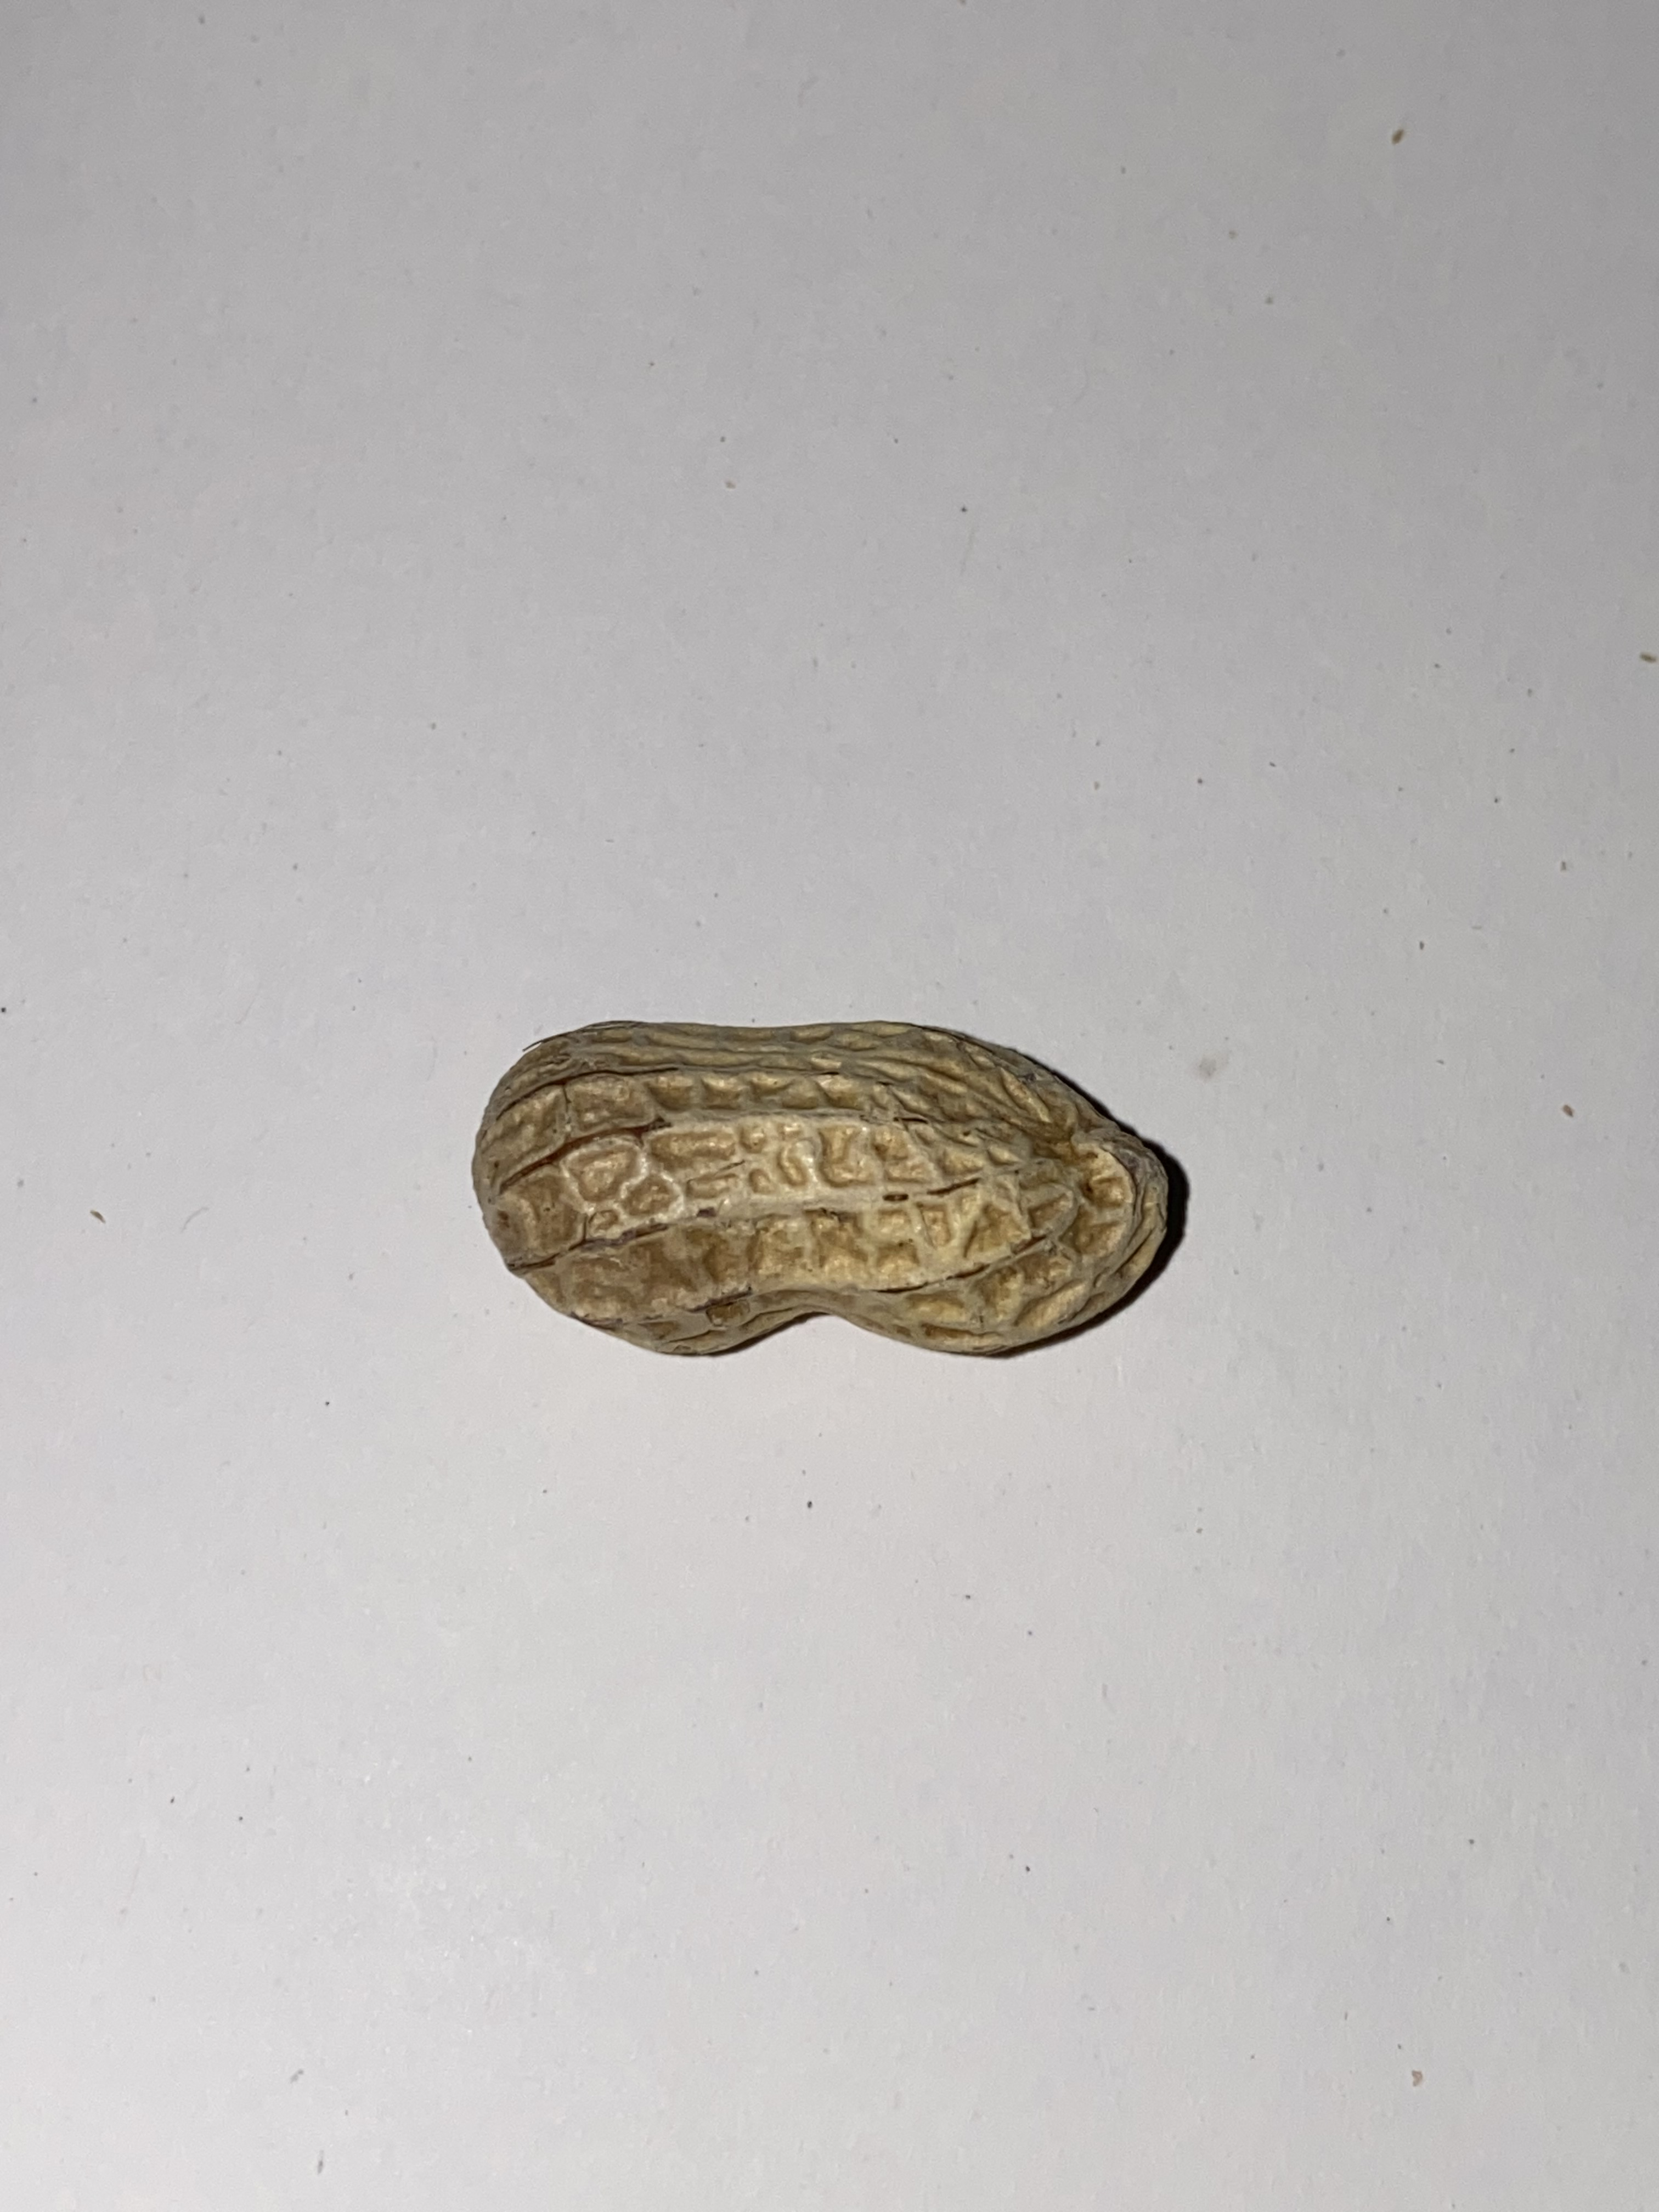kacang2: (450, 1000, 1222, 1360)
